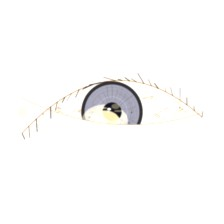corneal_ulcer: (81, 102, 129, 141)
